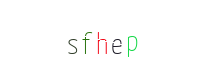E: (62, 0, 142, 80)
F: (61, 0, 141, 80)
H: (62, 0, 142, 80)
P: (91, 0, 171, 80)
S: (52, 0, 132, 80)
